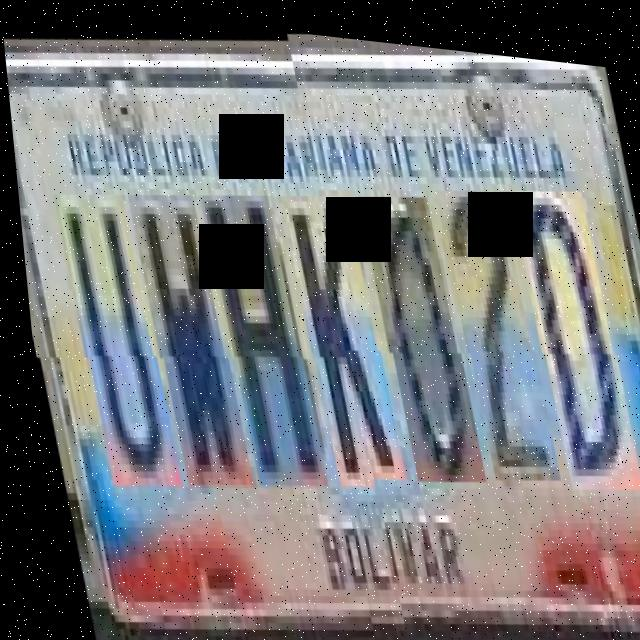2: (435, 180, 554, 484)
D: (510, 178, 636, 489)
H: (198, 184, 320, 488)
K: (279, 182, 401, 487)
O: (358, 187, 479, 486)
U: (51, 186, 174, 491)
W: (126, 185, 245, 489)
